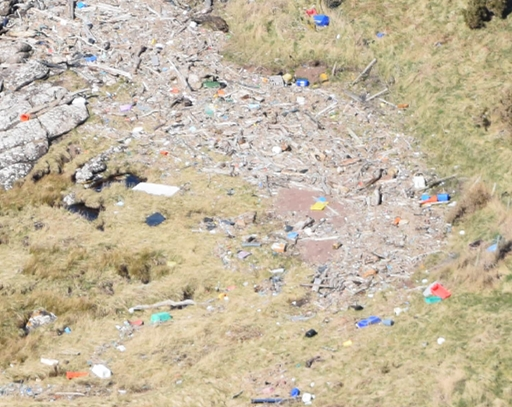scattered_barrel: (228, 279, 469, 407), (36, 306, 175, 383), (286, 1, 396, 49)
straight_bar: (122, 287, 201, 317)
together_barrel: (239, 54, 465, 267), (3, 1, 230, 122)
white_in_green: (116, 158, 193, 215)
